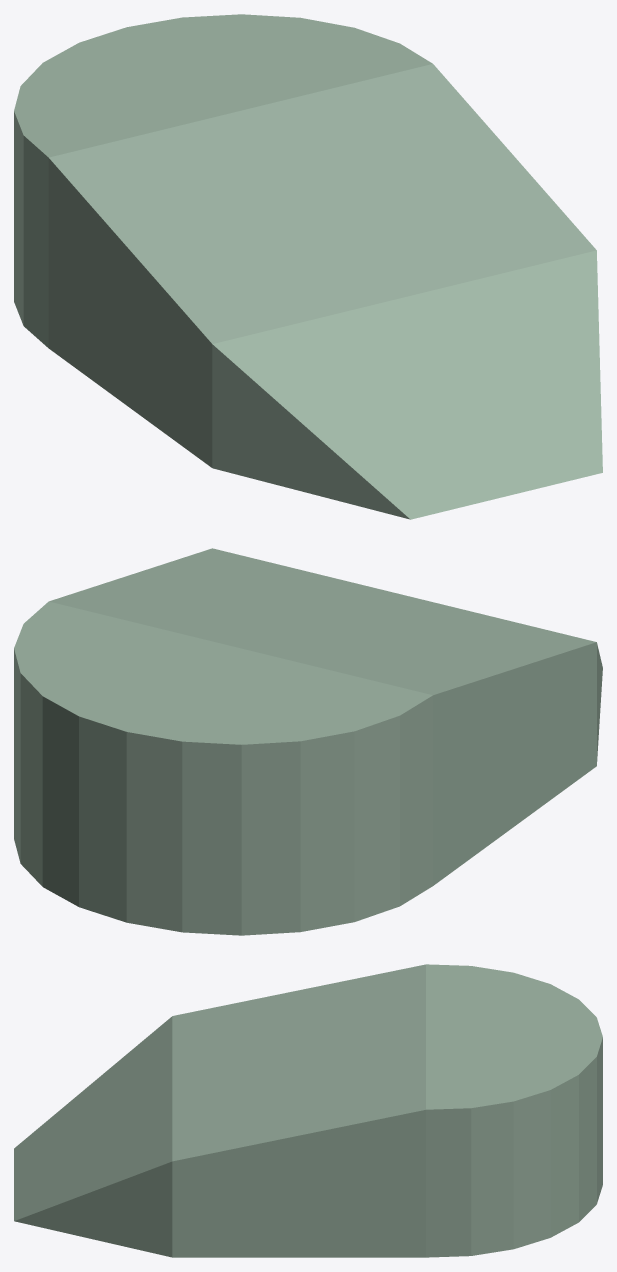
The model's file is computerMouse.glb.
The picture shows the model from 3 angles, top to bottom: view 1: azimuth 30°, elevation 25°; view 2: azimuth 150°, elevation 25°; view 3: azimuth 270°, elevation 25°; orthographic projection. The views are drawn at different scales.
Visible parts, largest first — view 1: computerMouse(Clone); view 2: computerMouse(Clone); view 3: computerMouse(Clone).
Part boxes in pixels (left/top/right/bottom): computerMouse(Clone): left=14, top=14, right=602, bottom=519; computerMouse(Clone): left=14, top=548, right=602, bottom=935; computerMouse(Clone): left=14, top=964, right=602, bottom=1257.
Bounding box in the file's own units: 0.0497 × 0.0236 × 0.0851.
